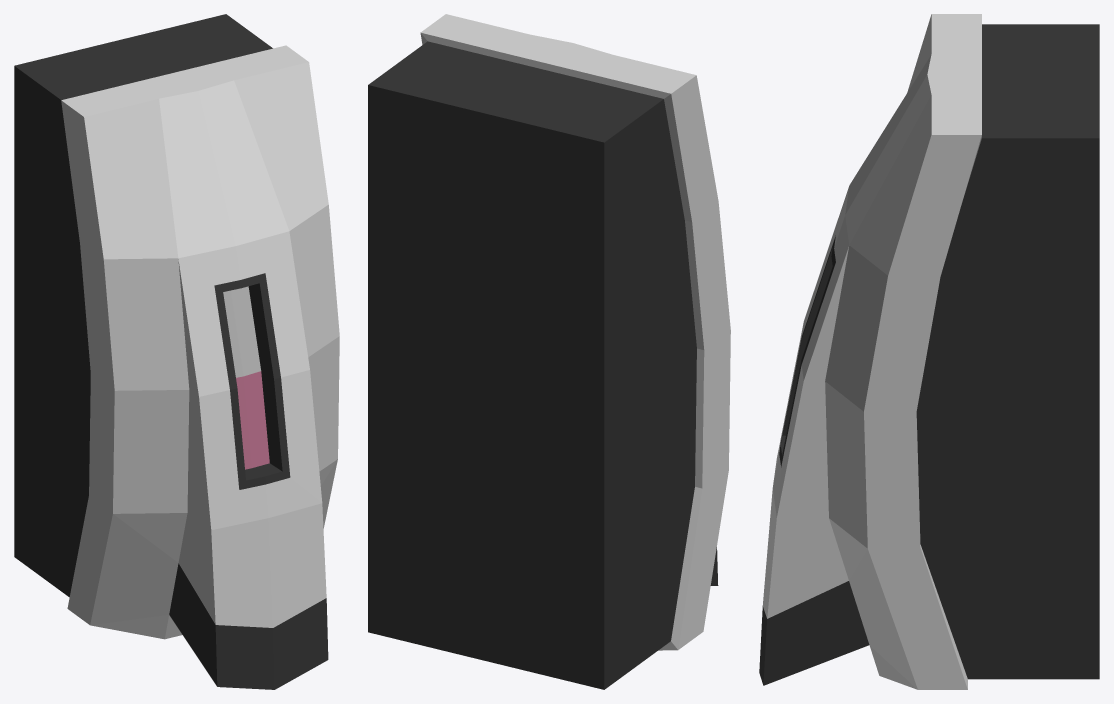
The model's file is Int_Dispenser01.fbx.
The picture shows the model from 3 angles, left to right: view 1: azimuth 30°, elevation 25°; view 2: azimuth 150°, elevation 25°; view 3: azimuth 270°, elevation 25°; orthographic projection. The views are drawn at different scales.
Parts seen in each view (by area): view 1: Int_Dispenser01; view 2: Int_Dispenser01; view 3: Int_Dispenser01.
Part boxes in pixels (bbox=[...]): Int_Dispenser01: bbox=[14, 14, 339, 689]; Int_Dispenser01: bbox=[368, 14, 730, 689]; Int_Dispenser01: bbox=[759, 14, 1099, 689].
Size of what is drawn, in the model's own units: 19.97 by 23.74 by 46.05.
